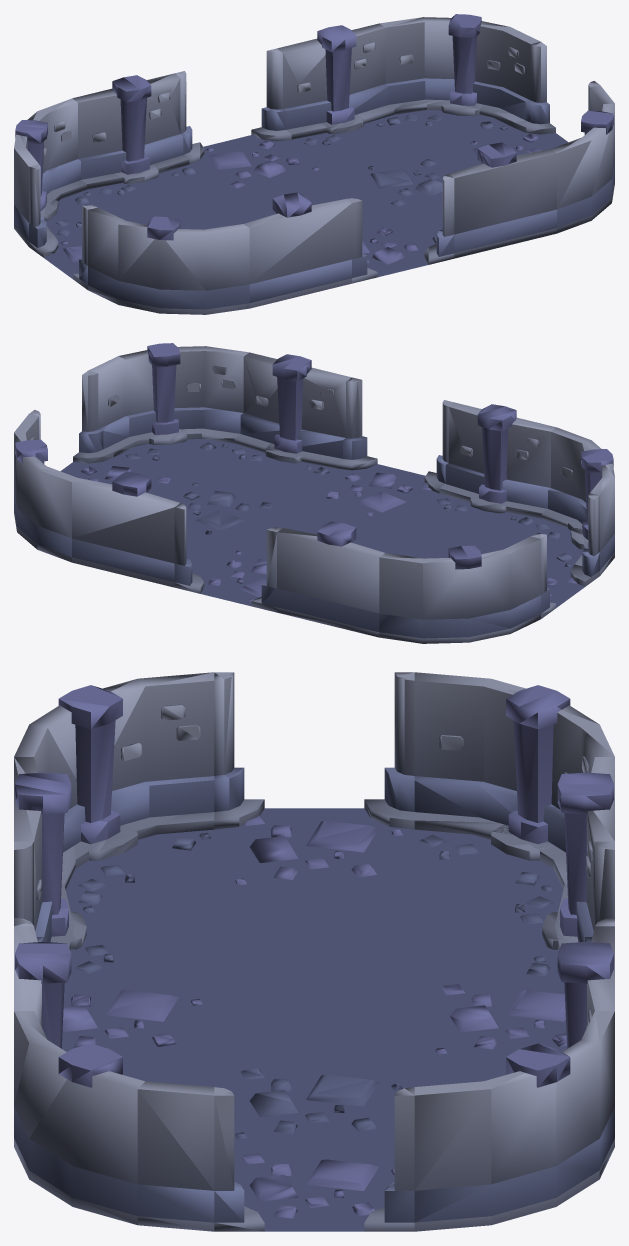
File: room-wide_lev2.glb
3 views of the same model, one above another, from view 1: azimuth 30°, elevation 25°; view 2: azimuth 150°, elevation 25°; view 3: azimuth 270°, elevation 25° (orthographic). The views are drawn at different scales.
Parts seen in each view (by area): view 1: room-wide_lev2; view 2: room-wide_lev2; view 3: room-wide_lev2.
Boxes of the visible parts, x1,y1,x2,y2 form: room-wide_lev2: [14, 14, 614, 314]; room-wide_lev2: [14, 343, 614, 643]; room-wide_lev2: [14, 672, 614, 1231].
Size of the model in its own units: 20 by 3.33 by 12.
1 material, 1 textured.
